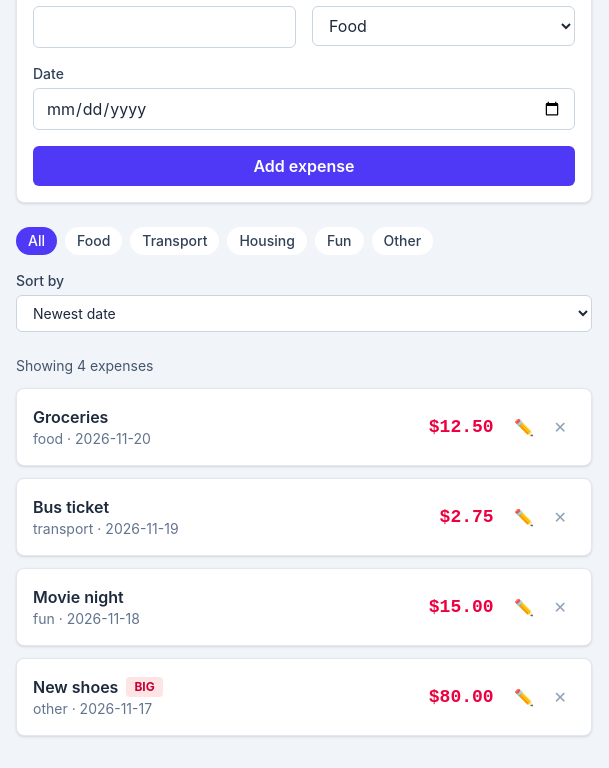
Test case: App › removes an expense and updates the total when it is deleted
(page scrolled)
Step 1. Click the button named "Delete Groceries" → click(560, 427), box x1=546 y1=411 x2=575 y2=443
(page scrolled)
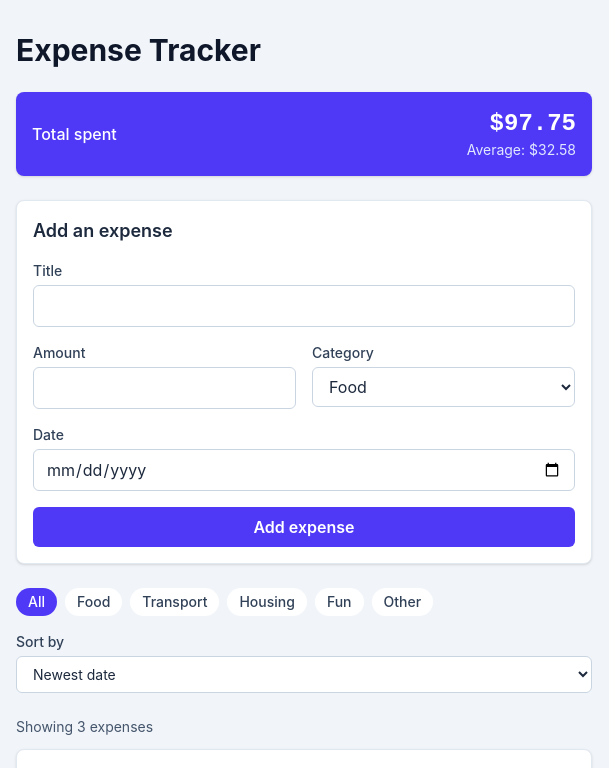
Result: the text "Groceries" is gone
Result: the text "Showing 3 expenses" is shown at x1=16 y1=718 x2=153 y2=735
Result: the text "$97.75" is shown at x1=490 y1=110 x2=576 y2=137
